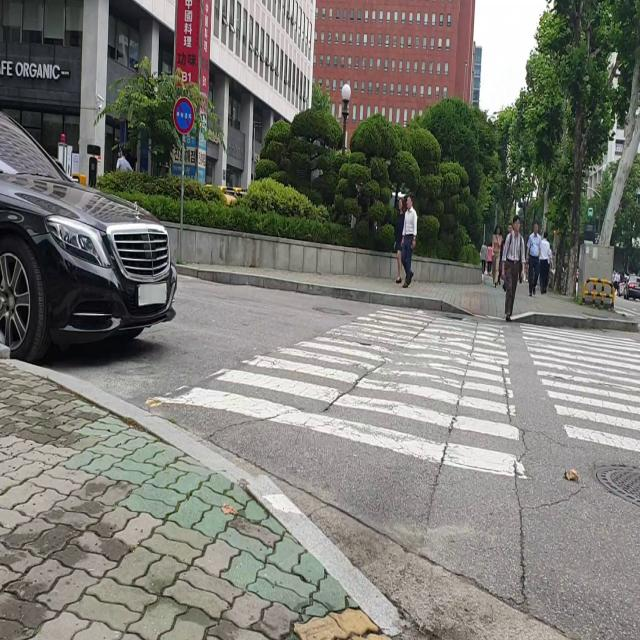횡단보도: (146, 302, 640, 483)
